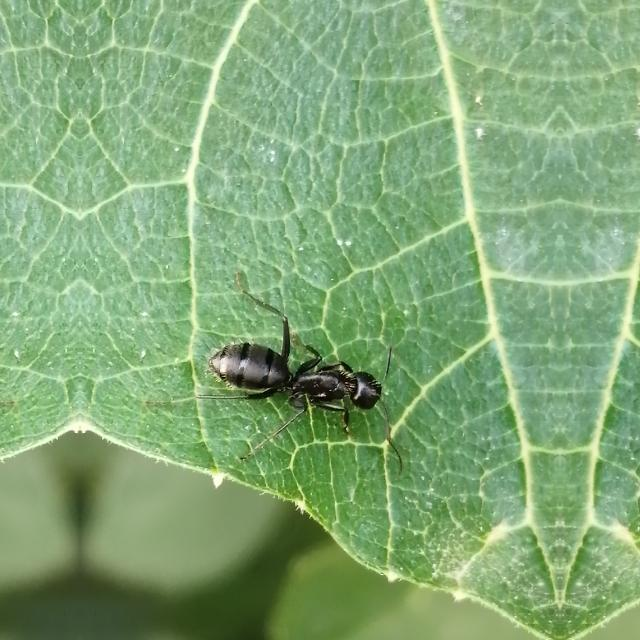Camponotus: (205, 286, 425, 456)
